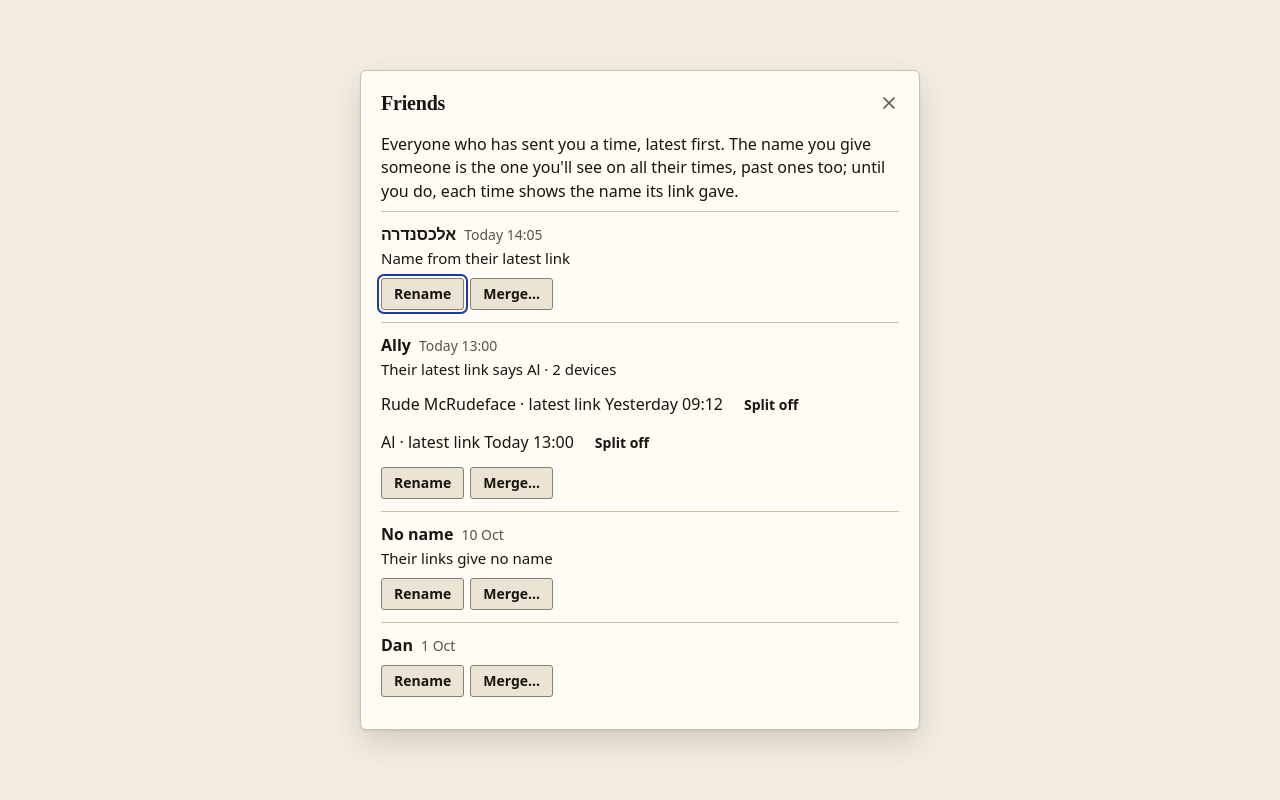
Test: FriendsDialog › renaming › opens one at a time
What coordinates should you click on to do the following:
click the button "Rename" below "Ally"
I would click on:
 (423, 483)
Its box is 381,467 -> 464,499.
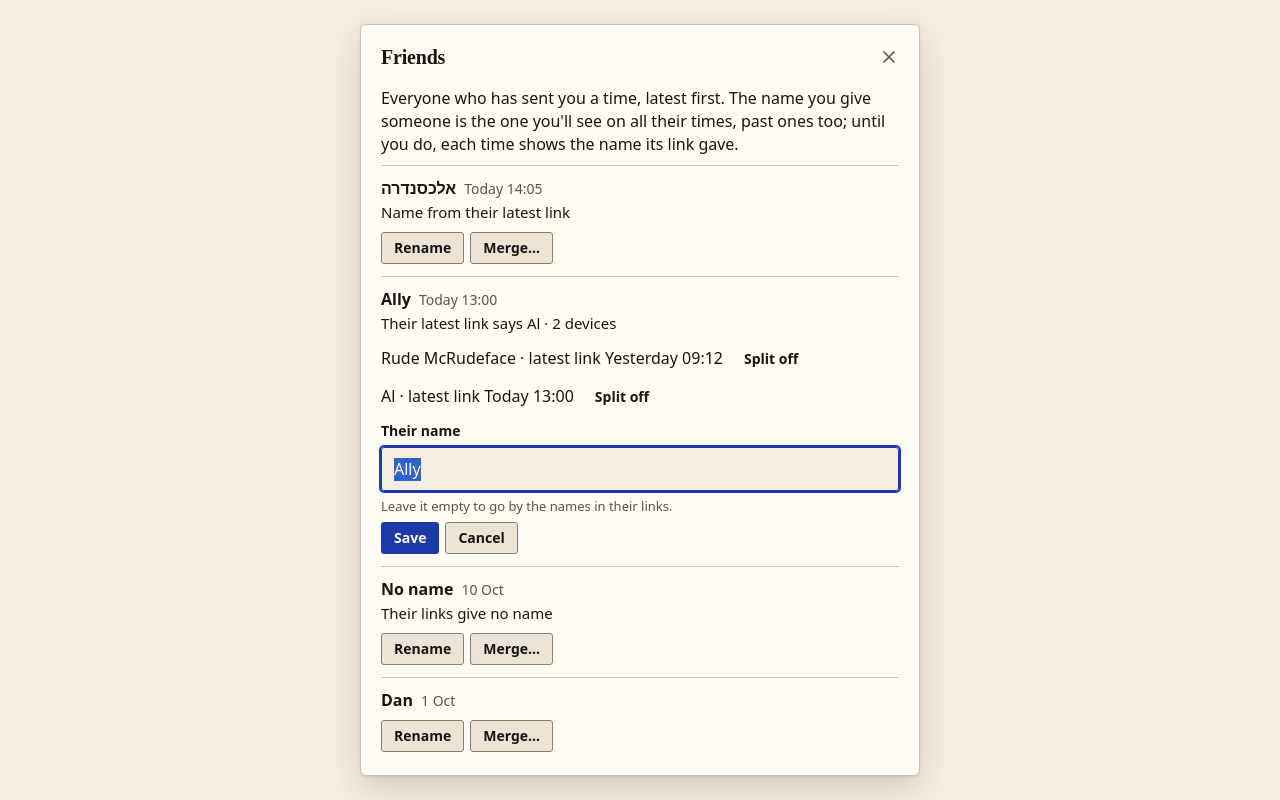
What coordinates should you click on to do the following:
click the button "Rename" below "Dan"
I would click on:
 (423, 736)
Its box is 381,720 -> 464,752.
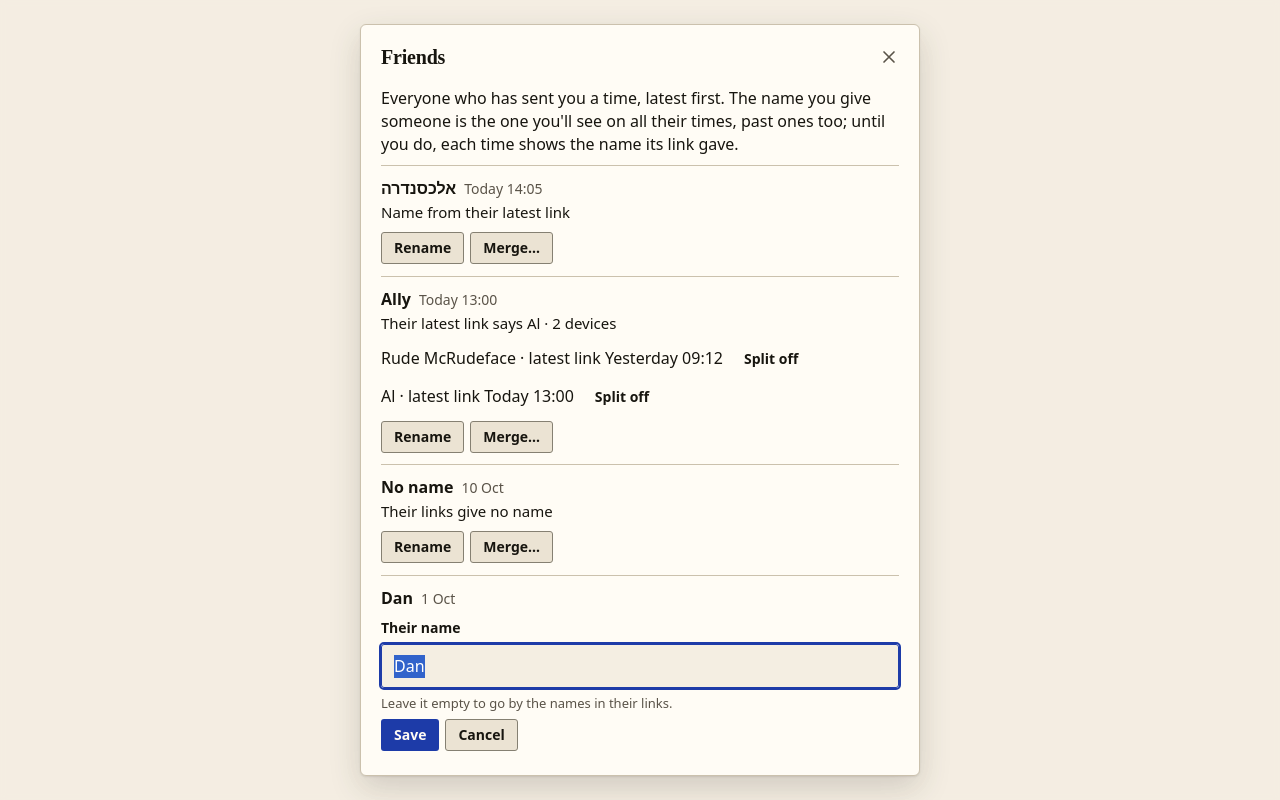
Check: the number of fields is 1, box 381,645 -> 899,689
Check: the field labelled "Their name" holds "Dan", box 381,645 -> 899,689
Check: the button "Rename" below "Ally" is shown, box 381,420 -> 464,452
